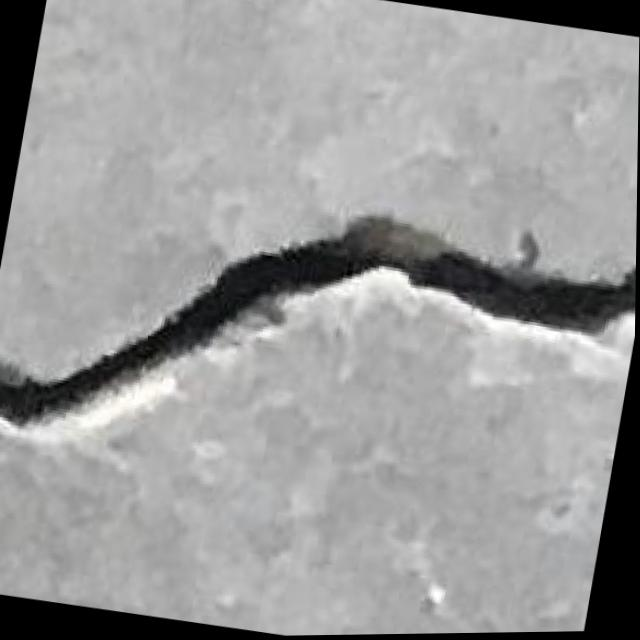Crack: (0, 148, 638, 534)
